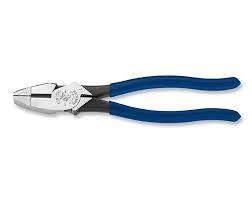pliers: (11, 74, 242, 122)
